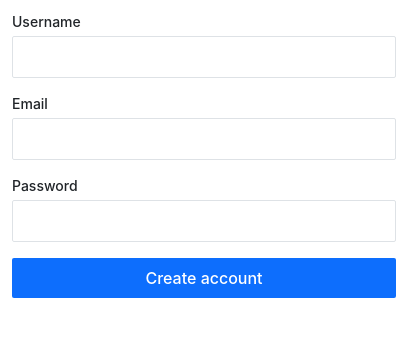
Scenario: RegisterForm › shows error when username is empty on submit
Type "test@example.com" into the field labelled "Email" at coordinates (204, 139), box x1=12 y1=118 x2=396 y2=160
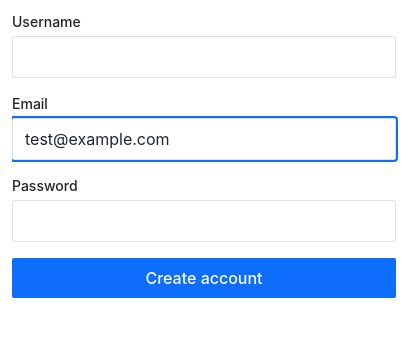
Type "password123" into the password field labelled "Password" at coordinates (204, 221), box x1=12 y1=200 x2=396 y2=242
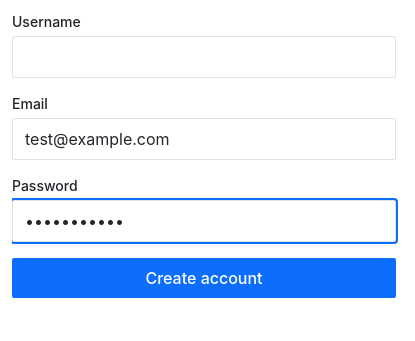
Click the button "Create account" at coordinates (204, 278), box x1=12 y1=258 x2=396 y2=298
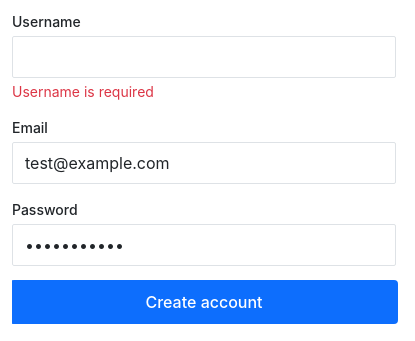
Check: the text "Username is required" is shown, box x1=12 y1=83 x2=154 y2=100
